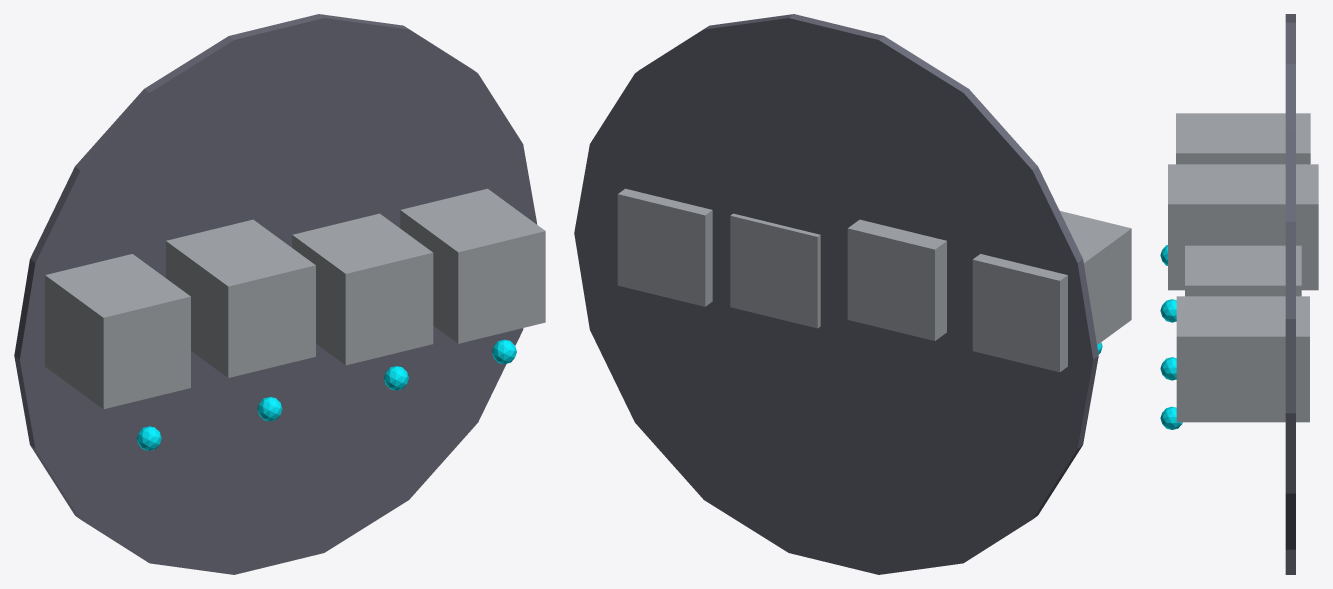
The model's file is 02_local_prop_cluster.glb.
3 renders of one model, left to right at view 1: azimuth 30°, elevation 25°; view 2: azimuth 150°, elevation 25°; view 3: azimuth 270°, elevation 25°, orthographic. The views are drawn at different scales.
Parts seen in each view (by area): view 1: scatter_base, tech_crate_0, tech_crate_1, tech_crate_3, tech_crate_2; view 2: scatter_base, tech_crate_0, tech_crate_1, tech_crate_3, tech_crate_2; view 3: tech_crate_3, tech_crate_1, tech_crate_0, scatter_base, tech_crate_2, status_light_3, status_light_1, status_light_2.
Part boxes in pixels (bbox=[...]): scatter_base: bbox=[14, 14, 537, 574]; tech_crate_0: bbox=[45, 254, 190, 409]; tech_crate_1: bbox=[166, 219, 315, 377]; tech_crate_3: bbox=[400, 188, 545, 343]; tech_crate_2: bbox=[292, 213, 433, 365]; scatter_base: bbox=[574, 14, 1098, 574]; tech_crate_0: bbox=[972, 211, 1131, 372]; tech_crate_1: bbox=[847, 219, 946, 340]; tech_crate_3: bbox=[617, 188, 712, 306]; tech_crate_2: bbox=[730, 213, 820, 328]; tech_crate_3: bbox=[1176, 296, 1309, 422]; tech_crate_1: bbox=[1168, 164, 1318, 290]; tech_crate_0: bbox=[1176, 113, 1310, 164]; scatter_base: bbox=[1285, 14, 1295, 574]; tech_crate_2: bbox=[1185, 245, 1301, 296]; status_light_3: bbox=[1160, 406, 1182, 429]; status_light_1: bbox=[1160, 299, 1176, 322]; status_light_2: bbox=[1160, 357, 1176, 380].
Bounding box in the file's own units: 1.9 × 1.87 × 0.5338.
